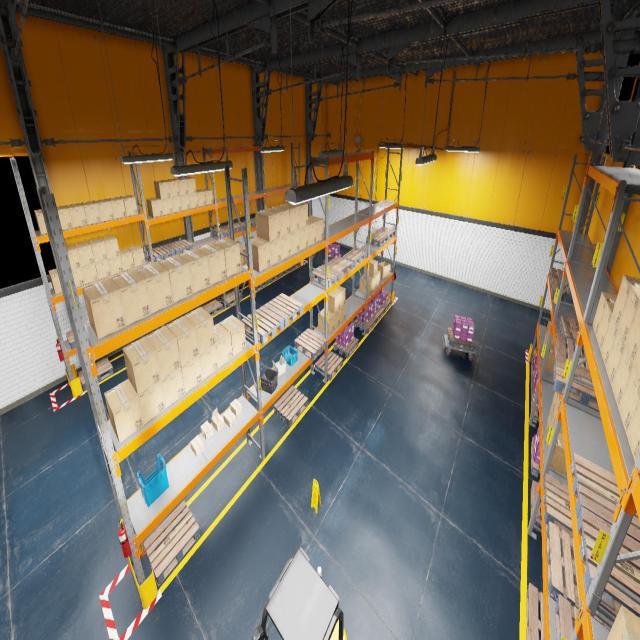box: (82, 278, 126, 339), (104, 379, 144, 443), (110, 270, 151, 326), (122, 336, 160, 394), (145, 325, 181, 380), (135, 262, 173, 313), (158, 255, 193, 303), (166, 316, 199, 366), (618, 366, 640, 435), (184, 307, 216, 354), (612, 275, 640, 328), (178, 248, 210, 294), (612, 347, 633, 409), (618, 286, 640, 345), (196, 242, 226, 285), (138, 380, 166, 425), (606, 605, 640, 639), (219, 314, 246, 356), (212, 238, 241, 277), (606, 329, 625, 387), (593, 292, 617, 337), (625, 300, 640, 364), (161, 368, 185, 408), (601, 315, 618, 368), (626, 398, 640, 462), (596, 303, 614, 351), (246, 236, 270, 272), (214, 323, 233, 368), (181, 354, 202, 394), (255, 209, 280, 242), (548, 432, 566, 476), (267, 206, 290, 237), (199, 344, 218, 380), (277, 204, 299, 232), (286, 202, 308, 229), (66, 203, 87, 228), (74, 241, 94, 267), (88, 238, 108, 263), (94, 198, 114, 222), (547, 417, 561, 451), (81, 201, 101, 224), (101, 235, 120, 258), (318, 308, 334, 335), (107, 196, 126, 218), (119, 195, 138, 216), (308, 216, 323, 242), (66, 244, 81, 270), (57, 206, 73, 230), (128, 245, 145, 267), (81, 263, 98, 285), (324, 290, 340, 313), (48, 268, 62, 294), (553, 394, 562, 433), (146, 197, 163, 217), (34, 209, 47, 235), (95, 259, 111, 280), (120, 248, 134, 271), (280, 233, 291, 261), (270, 238, 281, 266), (154, 180, 170, 199), (108, 255, 123, 275), (211, 408, 224, 431), (190, 435, 204, 456), (164, 179, 180, 197), (545, 345, 555, 373), (359, 274, 373, 294), (334, 286, 346, 308), (290, 230, 300, 256), (200, 421, 213, 440), (72, 268, 84, 288), (633, 346, 640, 380), (174, 178, 188, 195), (223, 409, 236, 427), (364, 260, 377, 278), (183, 176, 196, 194), (200, 188, 213, 205), (543, 338, 554, 358), (377, 262, 390, 278), (308, 220, 316, 246), (230, 399, 242, 416), (546, 404, 552, 436), (364, 274, 376, 290), (300, 226, 308, 250), (547, 320, 554, 346), (331, 309, 340, 329), (171, 196, 181, 213), (162, 198, 172, 215), (180, 194, 190, 210), (197, 190, 206, 207), (552, 391, 558, 415), (189, 193, 198, 209), (236, 240, 243, 256), (544, 318, 550, 336), (340, 304, 345, 324), (245, 236, 253, 248), (376, 270, 381, 287), (543, 331, 548, 345), (243, 249, 246, 264), (240, 256, 244, 266)
forklift: (252, 546, 347, 640)
pallets: (546, 522, 611, 630), (577, 507, 640, 618), (570, 453, 640, 542), (143, 500, 200, 586), (553, 357, 600, 412), (543, 474, 573, 538), (242, 306, 284, 344), (274, 386, 308, 426), (264, 294, 303, 326), (555, 334, 589, 369), (78, 357, 114, 390), (555, 594, 578, 640), (295, 328, 327, 361), (526, 582, 544, 640), (558, 316, 583, 351), (315, 350, 343, 380), (313, 264, 341, 288), (448, 328, 474, 351), (324, 256, 353, 276), (551, 278, 572, 303), (531, 480, 541, 532), (334, 337, 358, 358), (148, 245, 175, 261), (167, 239, 193, 255), (342, 249, 365, 267), (354, 316, 376, 334), (221, 290, 243, 307), (531, 437, 540, 478), (201, 300, 223, 316), (366, 232, 388, 246), (549, 268, 568, 284), (375, 226, 396, 240), (213, 225, 234, 238), (531, 393, 539, 424), (226, 221, 245, 234), (248, 280, 268, 291), (371, 306, 384, 322), (66, 330, 76, 349), (379, 298, 392, 312), (243, 218, 256, 228), (328, 254, 341, 262), (531, 359, 536, 379), (270, 273, 281, 282), (282, 267, 292, 276), (289, 262, 300, 270), (531, 375, 534, 398)
